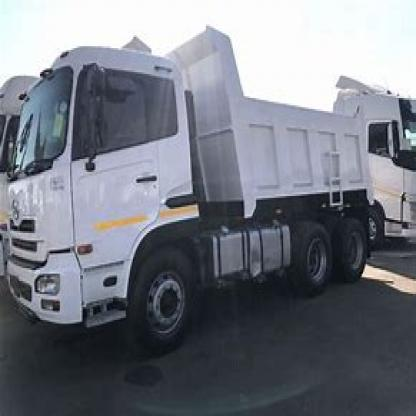dump_truck: (12, 30, 367, 340)
